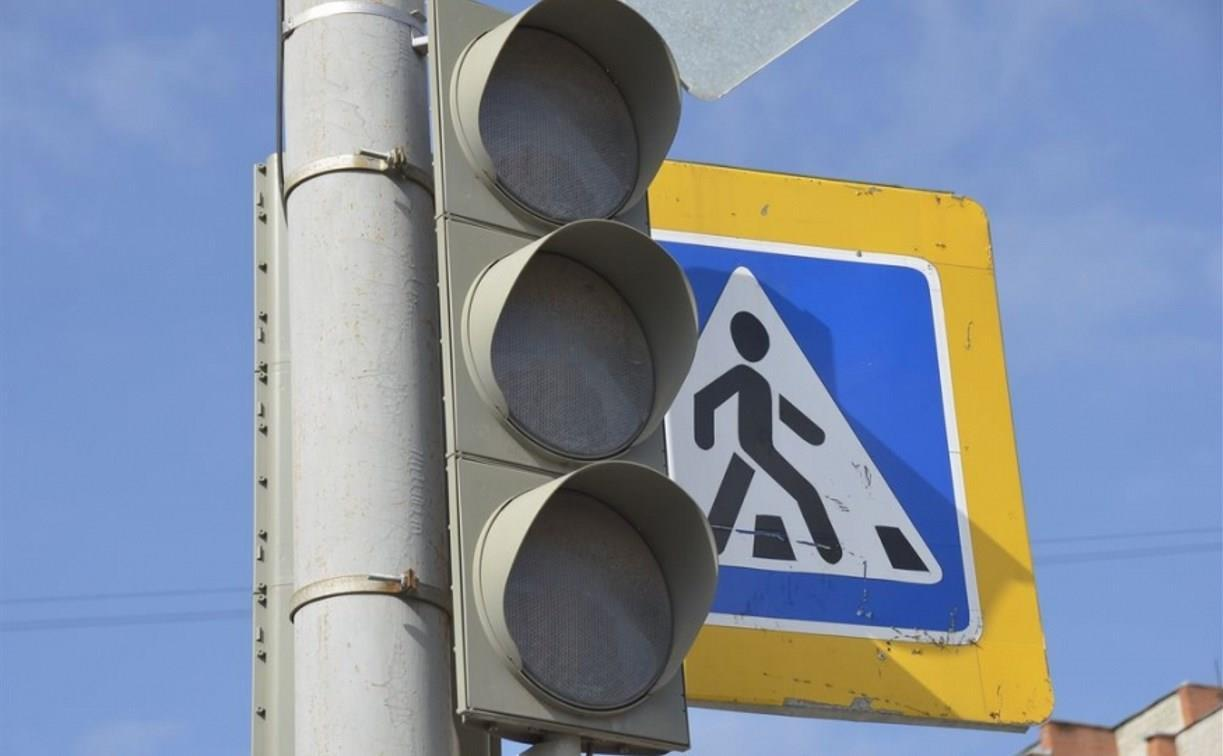obstructed_road_sign: (650, 160, 1053, 729)
off traffic light: (432, 0, 715, 755)
